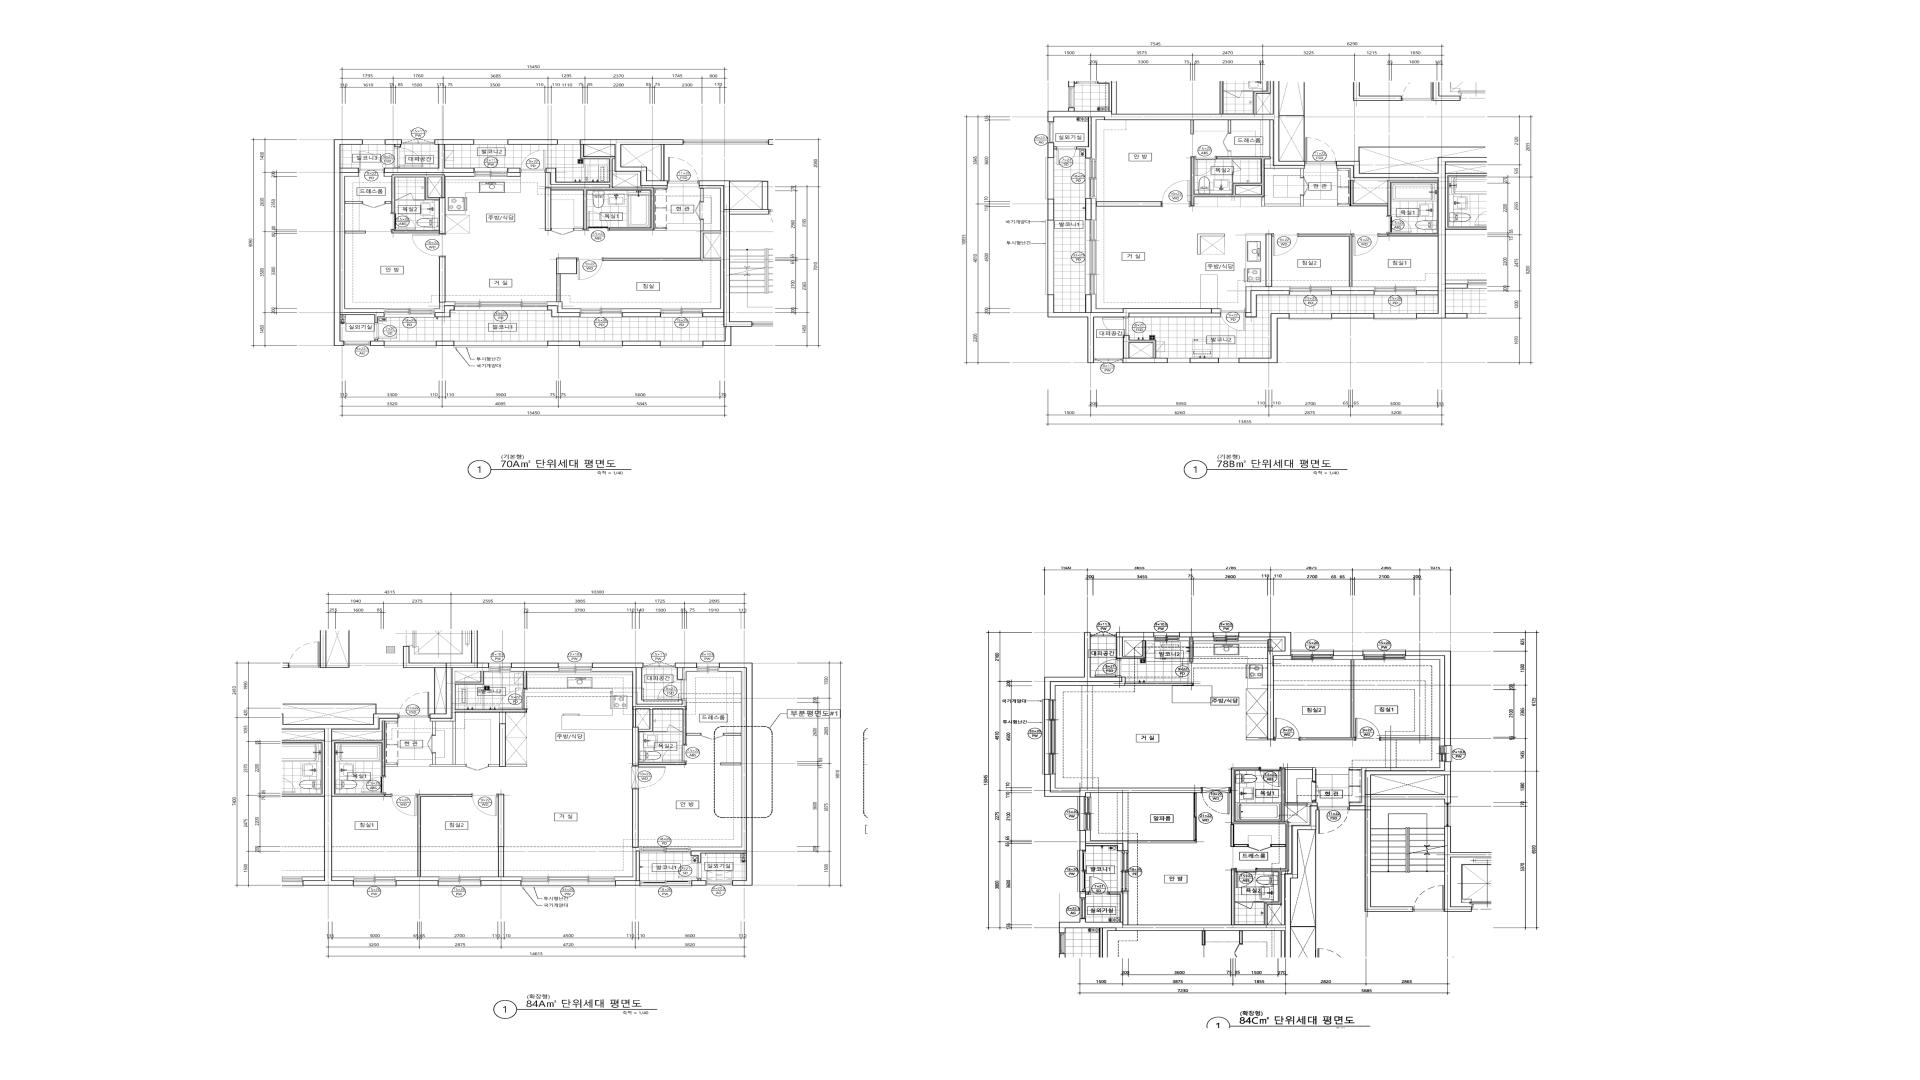door: (1317, 806, 1349, 833), (1201, 787, 1232, 815), (398, 692, 430, 719), (667, 157, 699, 183), (1305, 137, 1336, 164), (1414, 886, 1444, 913), (413, 233, 446, 257), (1162, 181, 1191, 207), (632, 766, 665, 789), (1352, 233, 1379, 256), (658, 679, 687, 700), (1273, 233, 1299, 256), (1220, 309, 1246, 331), (1354, 717, 1381, 740), (1274, 717, 1300, 740), (472, 794, 498, 816), (392, 794, 418, 816), (520, 150, 546, 173), (498, 688, 526, 709), (394, 148, 423, 167), (576, 258, 603, 280), (359, 152, 384, 173), (1102, 318, 1129, 335), (1095, 659, 1121, 676), (1259, 767, 1282, 787), (587, 211, 609, 231), (1234, 869, 1257, 887), (1387, 216, 1411, 233), (662, 745, 686, 762), (361, 777, 385, 794), (1195, 157, 1216, 175), (1088, 877, 1109, 895), (678, 862, 702, 878), (392, 214, 415, 229), (375, 323, 397, 339), (1193, 793, 1197, 840), (695, 200, 704, 220), (1312, 781, 1320, 803), (1249, 844, 1271, 851), (702, 733, 724, 740), (363, 202, 385, 208), (551, 228, 574, 235), (1224, 133, 1232, 152), (1234, 902, 1253, 910), (427, 735, 435, 753), (1300, 178, 1308, 195), (396, 193, 413, 200), (1091, 632, 1116, 637), (465, 765, 489, 770), (1232, 160, 1241, 171), (667, 725, 683, 732)
wall: (1059, 806, 1317, 957), (1047, 82, 1305, 166), (1336, 157, 1445, 319), (1349, 762, 1451, 913), (691, 663, 753, 886), (1232, 767, 1317, 924), (324, 713, 398, 886), (1047, 294, 1220, 363), (699, 181, 769, 345), (334, 140, 384, 345), (691, 667, 746, 851), (430, 669, 526, 766), (545, 145, 654, 231), (404, 646, 489, 719), (340, 173, 384, 313), (1238, 632, 1291, 740), (1044, 632, 1125, 699), (603, 220, 720, 261), (580, 140, 683, 186), (418, 794, 472, 877), (1300, 659, 1354, 740), (1406, 651, 1451, 746), (1444, 825, 1491, 913), (1191, 157, 1271, 206), (592, 667, 687, 707), (592, 663, 683, 704), (1044, 774, 1201, 796), (632, 707, 686, 766), (699, 186, 724, 313), (384, 140, 475, 173), (1299, 233, 1353, 286), (1238, 314, 1290, 363), (1291, 829, 1316, 927), (1265, 120, 1305, 178), (392, 174, 444, 214), (613, 160, 667, 187), (1336, 166, 1437, 181), (1371, 775, 1444, 795), (1246, 290, 1290, 318), (1124, 335, 1167, 363), (1246, 286, 1290, 313), (1116, 632, 1154, 658), (1080, 831, 1129, 851), (332, 719, 398, 732), (616, 851, 640, 886), (616, 847, 640, 881), (1122, 637, 1154, 657), (1197, 233, 1225, 255), (1092, 294, 1122, 313), (1262, 195, 1304, 207), (1092, 117, 1104, 158), (1109, 891, 1124, 922), (498, 794, 504, 877), (1232, 824, 1249, 848), (632, 789, 638, 848), (455, 671, 484, 684), (1129, 343, 1153, 359), (1129, 314, 1220, 318), (384, 173, 475, 177), (675, 663, 698, 679), (547, 306, 580, 316), (1266, 233, 1273, 286), (1096, 202, 1162, 207), (547, 302, 580, 313), (556, 257, 576, 274), (1179, 632, 1213, 641), (439, 257, 446, 302), (636, 709, 650, 729), (1129, 840, 1196, 844), (508, 140, 558, 145), (512, 663, 559, 669), (1333, 651, 1364, 659), (439, 198, 446, 233), (1269, 637, 1284, 651), (1332, 290, 1374, 295), (396, 881, 438, 886), (500, 724, 505, 766), (1332, 314, 1374, 319), (480, 881, 521, 886), (435, 306, 455, 316), (435, 302, 455, 313), (392, 229, 439, 233), (512, 667, 559, 671), (1125, 683, 1193, 686), (683, 667, 698, 679), (1332, 286, 1374, 290), (396, 877, 438, 881), (480, 877, 521, 881), (1381, 737, 1440, 740), (1189, 357, 1218, 363), (622, 313, 661, 316), (622, 342, 661, 345), (622, 309, 661, 313), (1085, 198, 1092, 220), (1232, 869, 1234, 924), (1047, 142, 1056, 158), (661, 145, 665, 181), (1047, 199, 1054, 220), (385, 140, 402, 148), (547, 342, 579, 345), (692, 878, 707, 886), (556, 274, 560, 302), (508, 167, 520, 177), (1189, 637, 1193, 662), (1092, 198, 1096, 220), (371, 339, 384, 345), (1416, 286, 1437, 290), (332, 877, 353, 881), (436, 342, 454, 345), (434, 669, 435, 713), (1246, 737, 1267, 740), (700, 189, 704, 202), (345, 231, 365, 233), (1228, 120, 1232, 133), (345, 202, 363, 204), (524, 671, 526, 688), (1080, 891, 1087, 898), (686, 733, 702, 736), (731, 181, 762, 182), (1191, 120, 1193, 135), (654, 228, 666, 231), (1349, 767, 1361, 770), (505, 765, 527, 766), (574, 228, 584, 231), (1228, 152, 1232, 157), (653, 731, 667, 732), (385, 202, 392, 204), (1337, 204, 1350, 206), (1253, 902, 1265, 903), (385, 765, 397, 766), (413, 199, 425, 200), (1232, 171, 1233, 182), (489, 765, 500, 766), (1087, 891, 1088, 894)
window: (1042, 699, 1056, 774), (521, 877, 616, 887), (1085, 220, 1096, 294), (455, 302, 547, 310), (454, 342, 547, 348), (1046, 220, 1054, 295), (384, 309, 435, 318), (1291, 649, 1335, 659), (1077, 796, 1091, 831), (353, 877, 396, 887), (438, 877, 480, 887), (1364, 649, 1406, 659), (1085, 158, 1096, 198), (580, 309, 622, 318), (661, 309, 703, 318), (1374, 286, 1416, 295), (1290, 286, 1332, 295), (1077, 851, 1087, 891), (640, 881, 692, 887), (384, 342, 436, 348), (1046, 158, 1054, 199), (1121, 851, 1129, 891), (558, 663, 592, 673), (475, 167, 508, 177), (579, 342, 622, 348), (1374, 314, 1416, 320), (1290, 314, 1332, 320), (661, 342, 703, 348), (640, 847, 691, 852), (1213, 632, 1238, 641), (1154, 632, 1179, 641), (402, 138, 434, 145), (489, 663, 512, 673), (698, 663, 719, 673), (1440, 746, 1452, 762), (473, 140, 508, 145), (644, 662, 675, 667), (1444, 803, 1451, 827), (1095, 359, 1124, 364), (1080, 898, 1087, 919), (1047, 123, 1054, 142), (1167, 357, 1189, 363), (558, 140, 580, 145), (363, 140, 385, 145), (344, 342, 371, 345), (1218, 357, 1238, 363), (707, 881, 732, 885)
